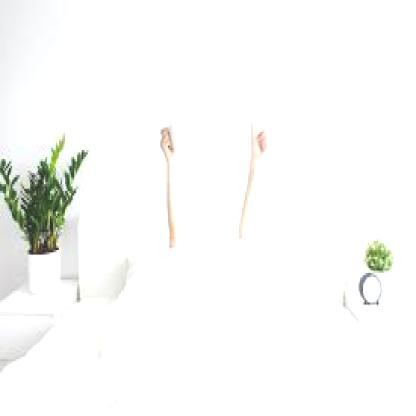Thumbs up: (236, 108, 286, 157)
